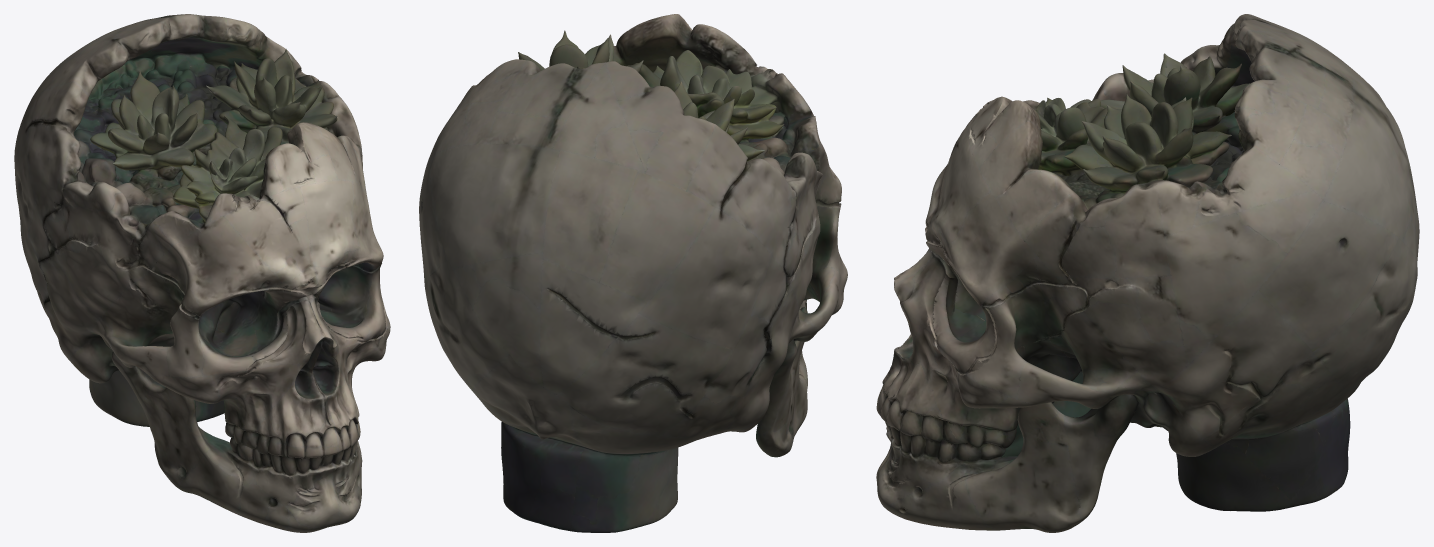
The model's file is skull.glb.
3 renders of one model, left to right at view 1: azimuth 30°, elevation 25°; view 2: azimuth 150°, elevation 25°; view 3: azimuth 270°, elevation 25°, orthographic. The views are drawn at different scales.
Parts seen in each view (by area): view 1: tmpy9x8wvqnobj; view 2: tmpy9x8wvqnobj; view 3: tmpy9x8wvqnobj.
Part boxes in pixels (x1,y1,x2,y2): tmpy9x8wvqnobj: [14, 14, 390, 532]; tmpy9x8wvqnobj: [419, 14, 847, 532]; tmpy9x8wvqnobj: [876, 14, 1419, 532].
Size of the model in its own units: 0.7105 by 0.9483 by 1.
1 material, 1 textured.
